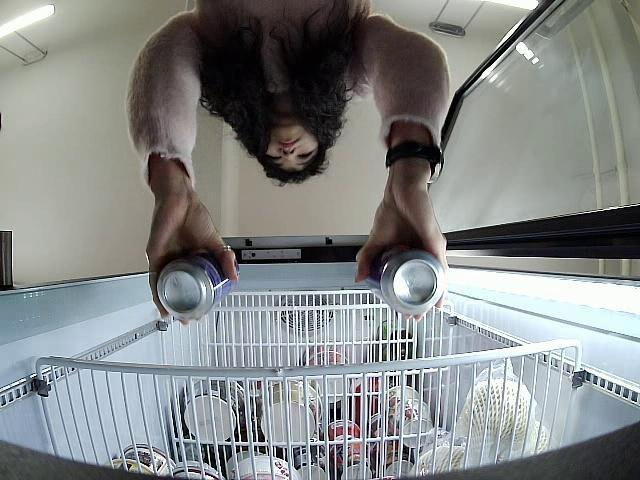14_welchsGrape: (362, 244, 448, 316), (156, 250, 239, 318)
